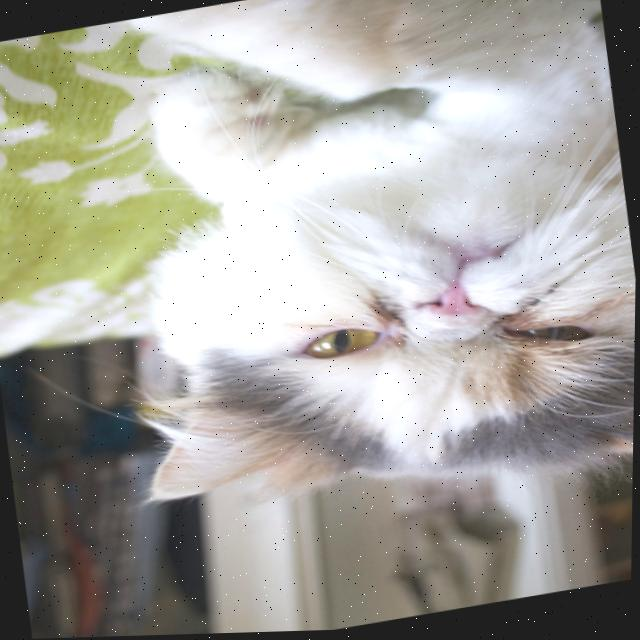Persian: (76, 0, 640, 560)
